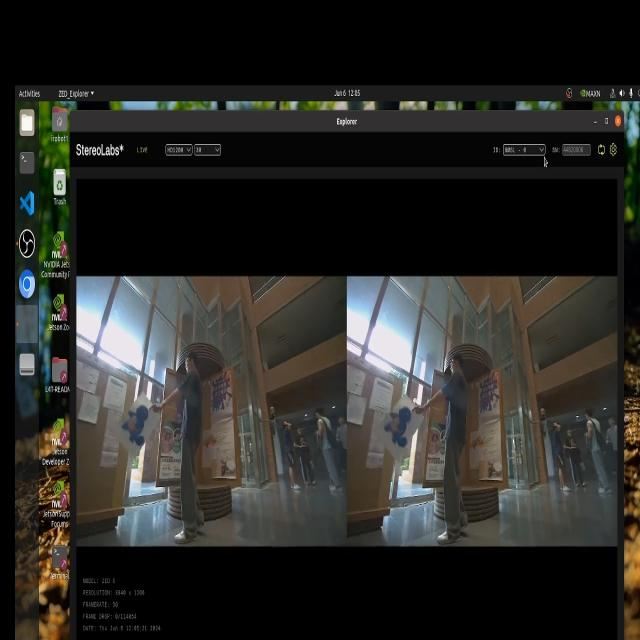blue: (378, 386, 419, 453), (121, 395, 151, 446)
